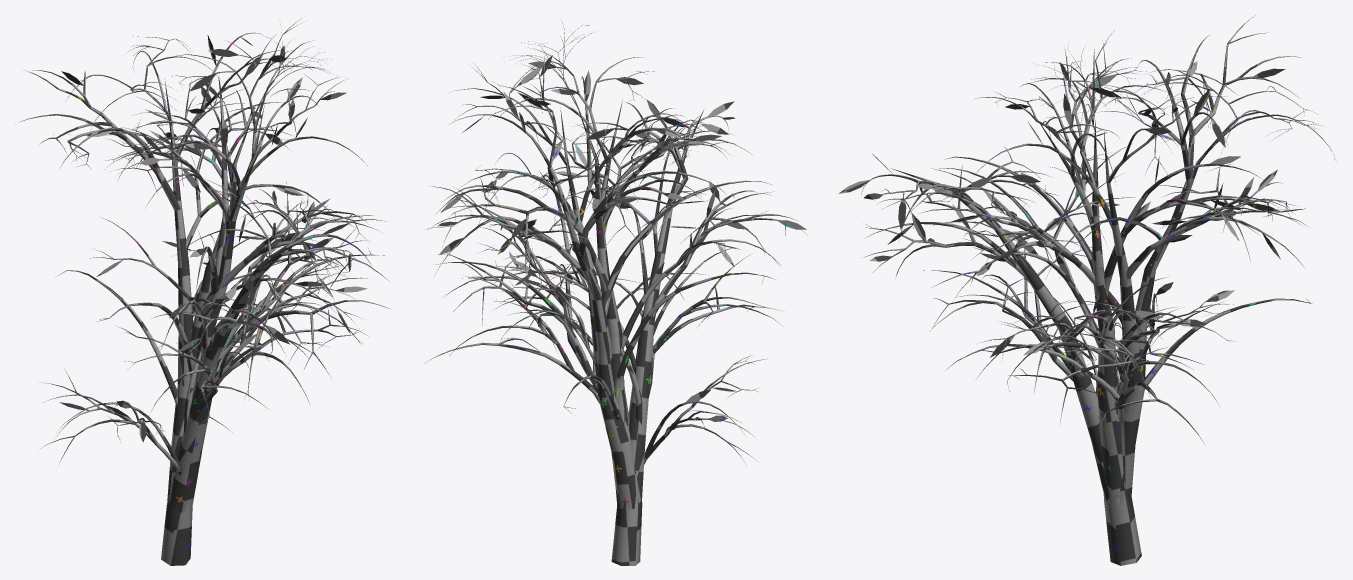
The model's file is Tree-2.obj.
The picture shows the model from 3 angles, left to right: view 1: azimuth 30°, elevation 25°; view 2: azimuth 150°, elevation 25°; view 3: azimuth 270°, elevation 25°; orthographic projection. The views are drawn at different scales.
Parts seen in each view (by area): view 1: Tree; view 2: Tree; view 3: Tree.
Boxes of the visible parts, x1,y1,x2,y2 form: Tree: (19,18,389,565); Tree: (424,20,806,565); Tree: (838,15,1336,565).
Size of the model in its own units: 10.59 by 17.31 by 13.79.
1 material, 1 textured.
